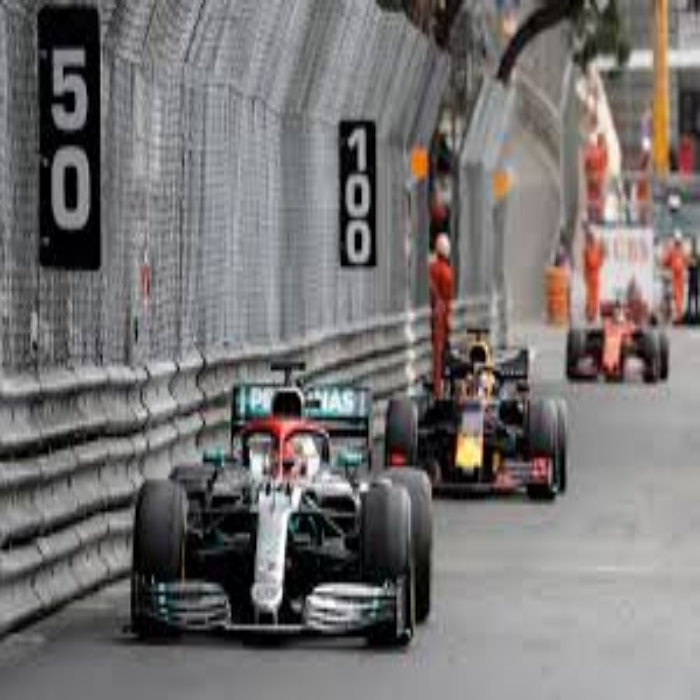f1_car: (124, 360, 444, 657), (365, 330, 581, 513), (552, 280, 687, 401)
